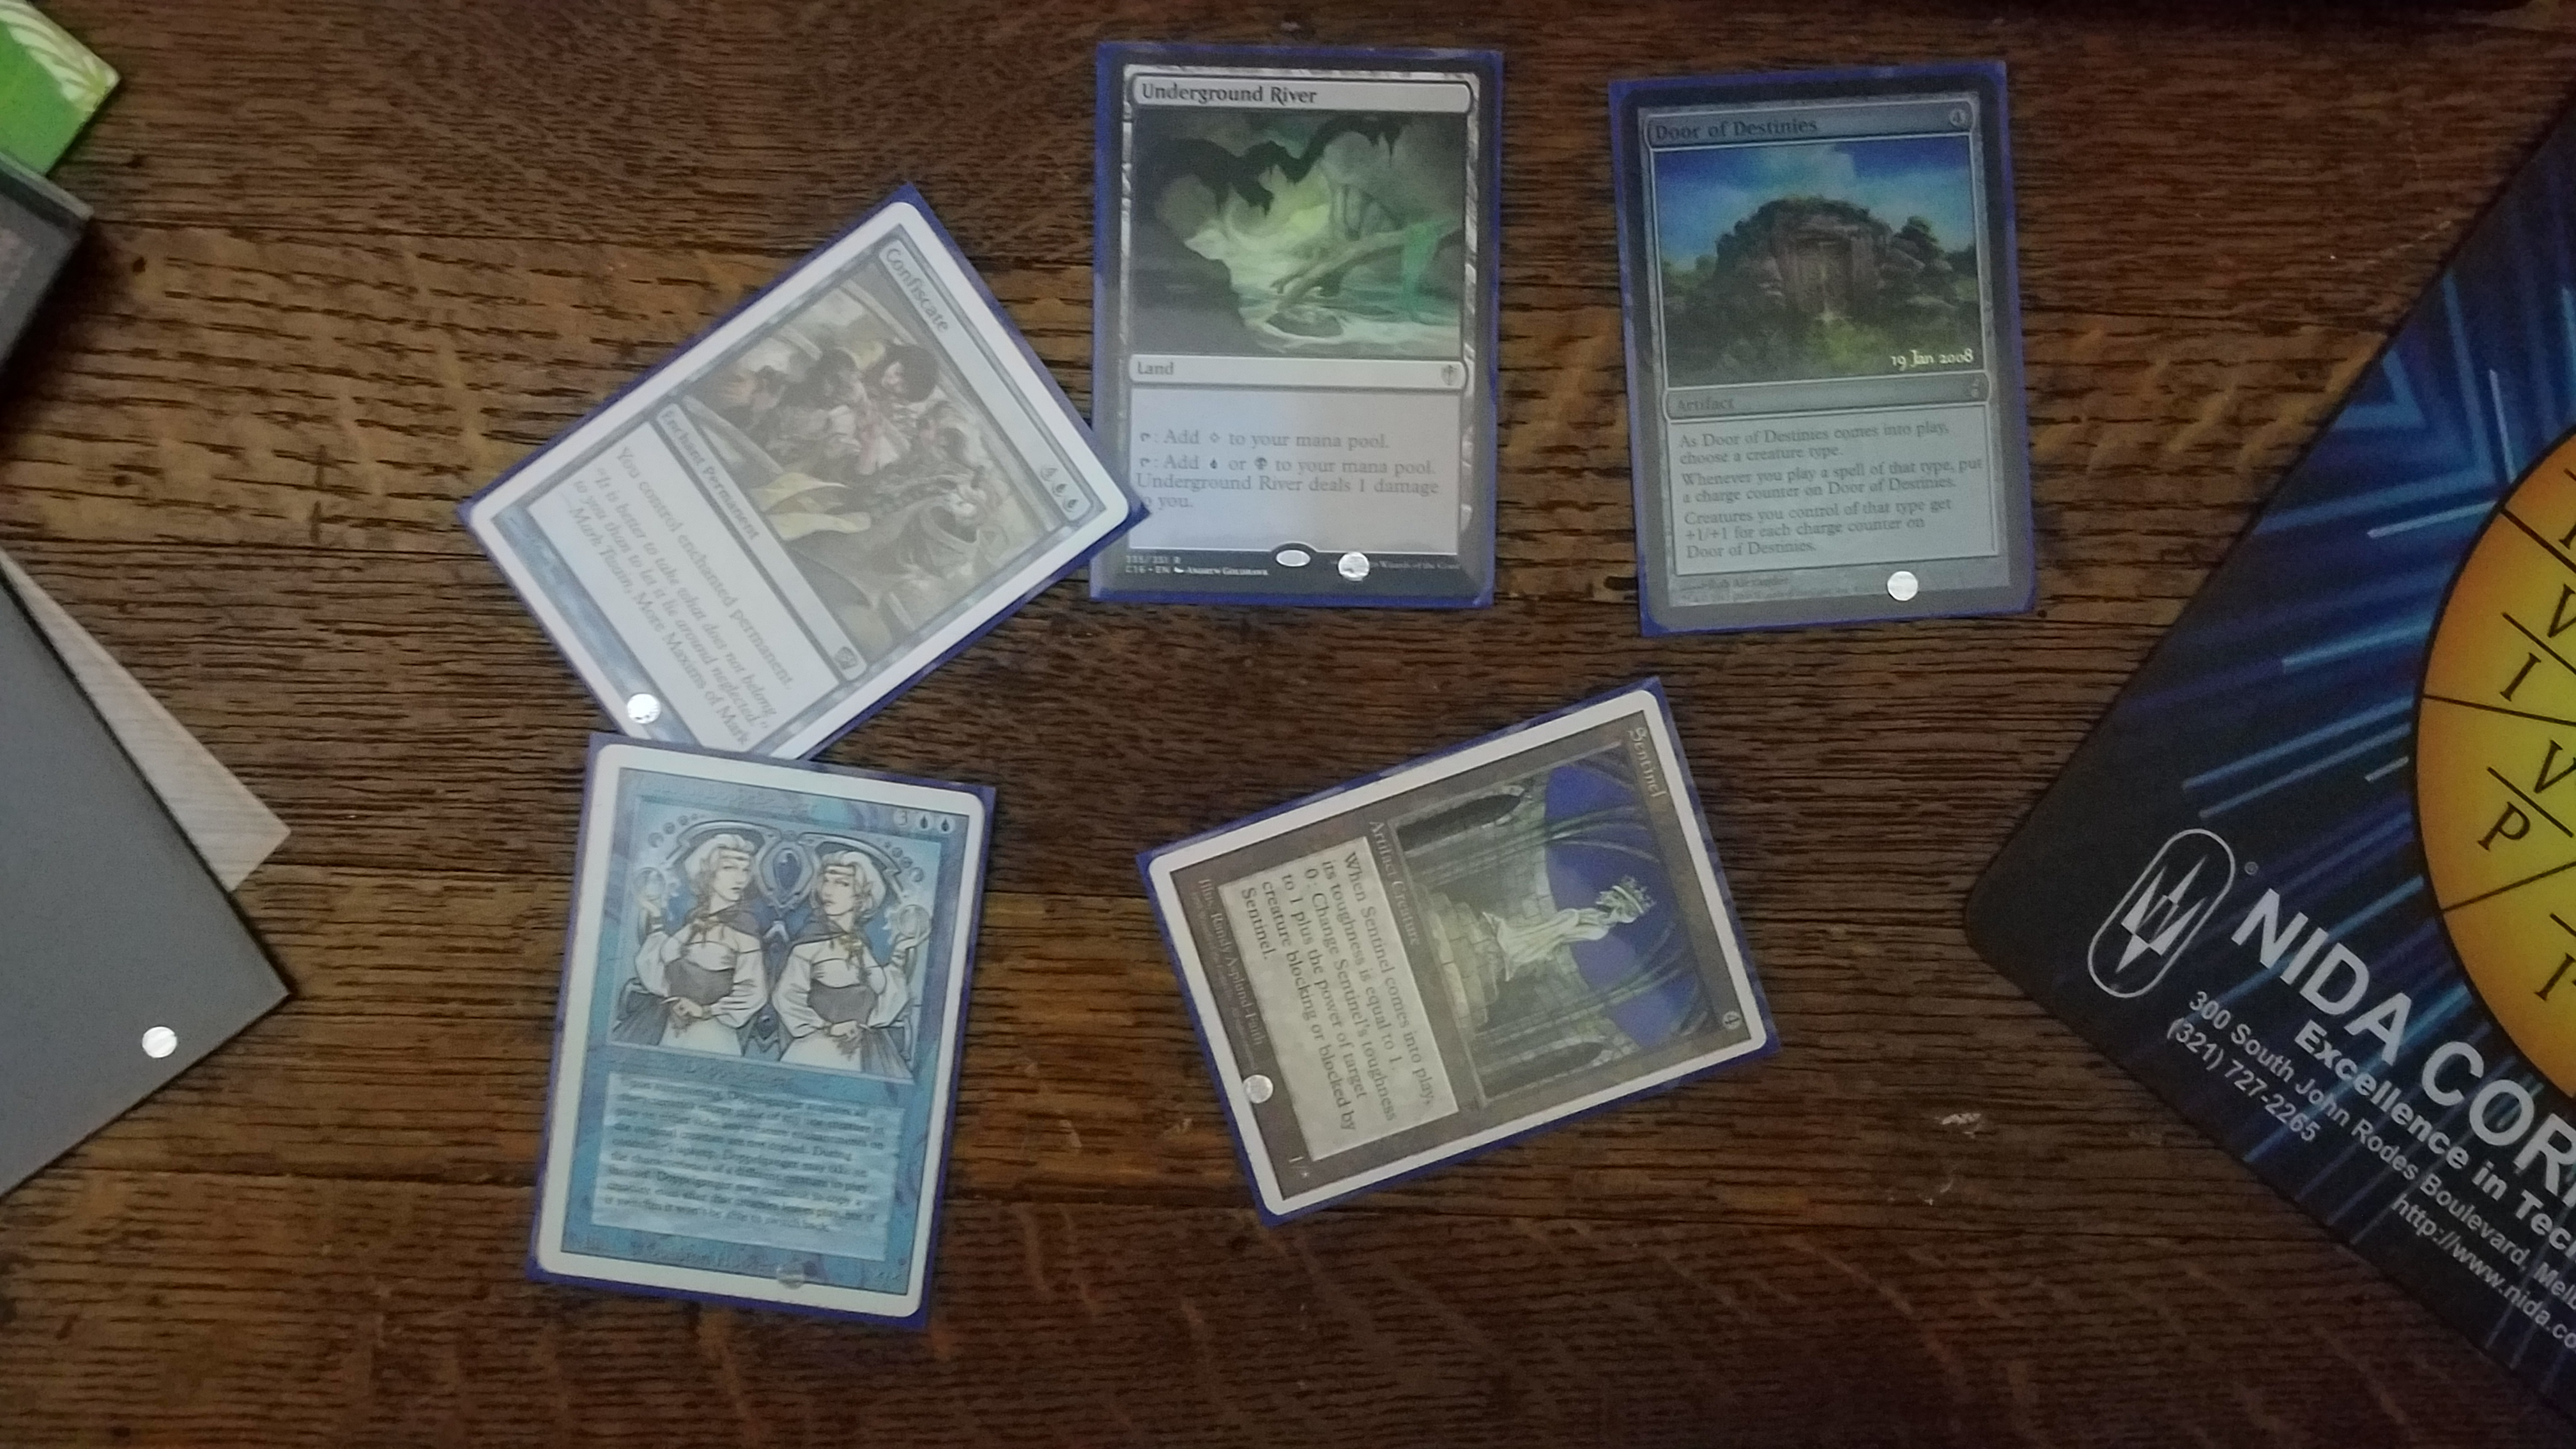Card: (472, 193, 1129, 768), (1148, 685, 1769, 1230), (536, 743, 993, 1327), (1095, 35, 1506, 616), (1617, 65, 2028, 635)
